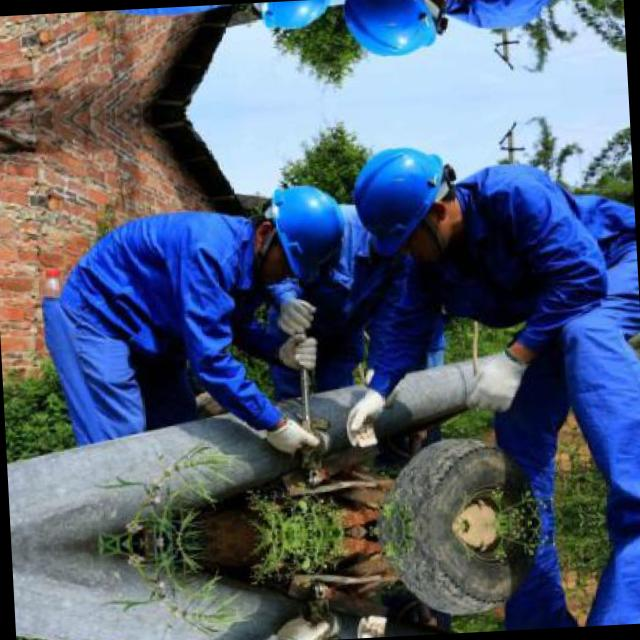helmet: (338, 134, 466, 262), (265, 180, 366, 284), (329, 0, 456, 70), (256, 0, 354, 34)
